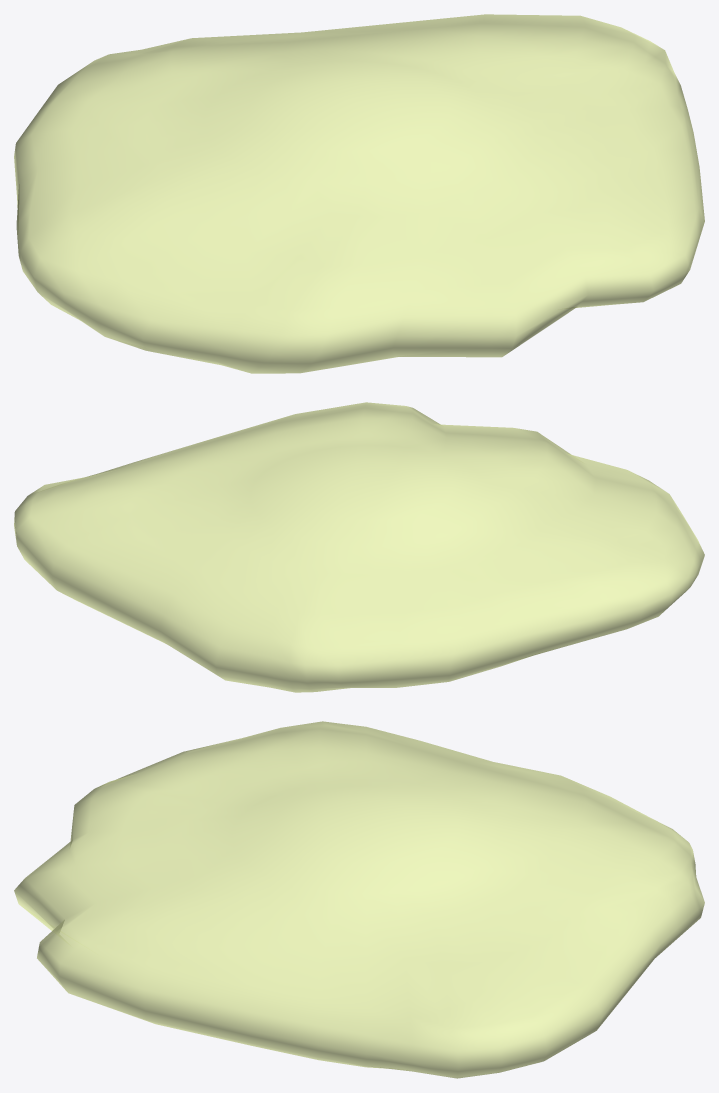
The model's file is glycerin.glb.
3 views of the same model, one above another, from view 1: azimuth 30°, elevation 25°; view 2: azimuth 150°, elevation 25°; view 3: azimuth 270°, elevation 25° (orthographic). The views are drawn at different scales.
Parts seen in each view (by area): view 1: Sphere; view 2: Sphere; view 3: Sphere.
Boxes of the visible parts, x1,y1,x2,y2 form: Sphere: (14, 14, 704, 373); Sphere: (14, 402, 704, 692); Sphere: (14, 721, 704, 1078).
Size of the model in its own units: 5.61 by 1.33 by 5.13.
